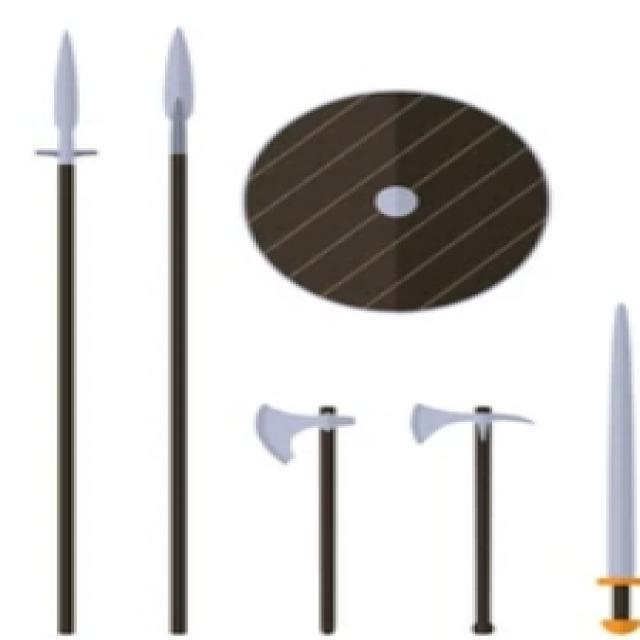spear: (134, 12, 242, 634), (15, 0, 104, 636)
